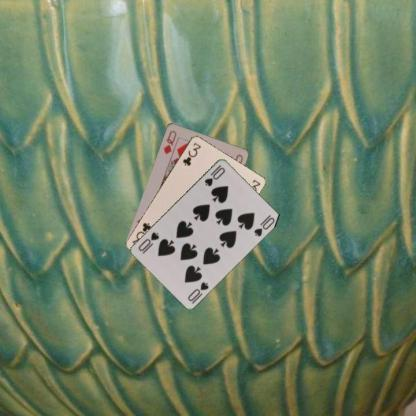10s: (201, 162, 226, 187), (185, 279, 210, 302)
3c: (180, 140, 202, 167)
Qd: (160, 128, 178, 155)
